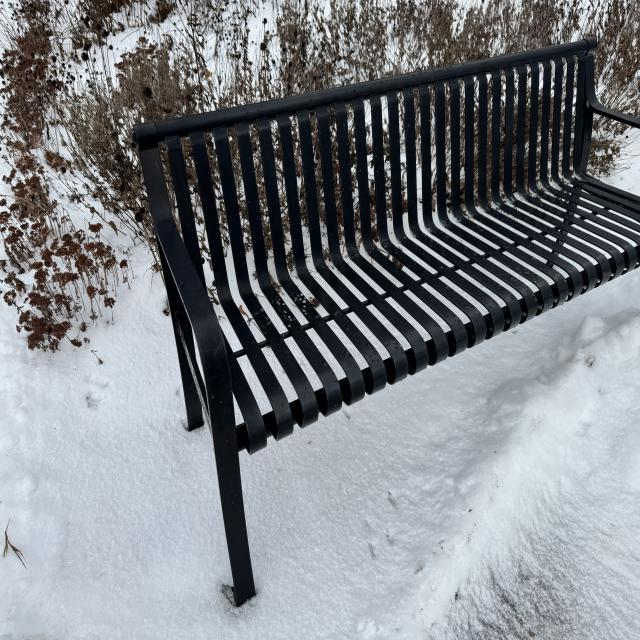Bench: (126, 16, 640, 610)
